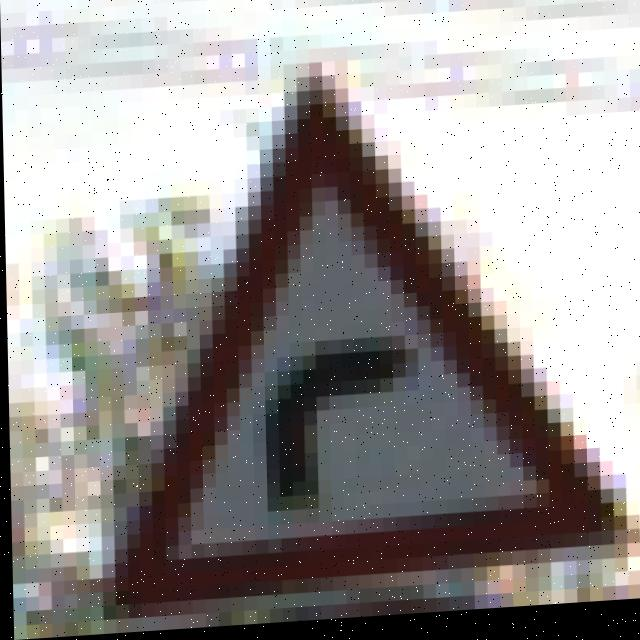right_turn: (80, 78, 626, 582)
